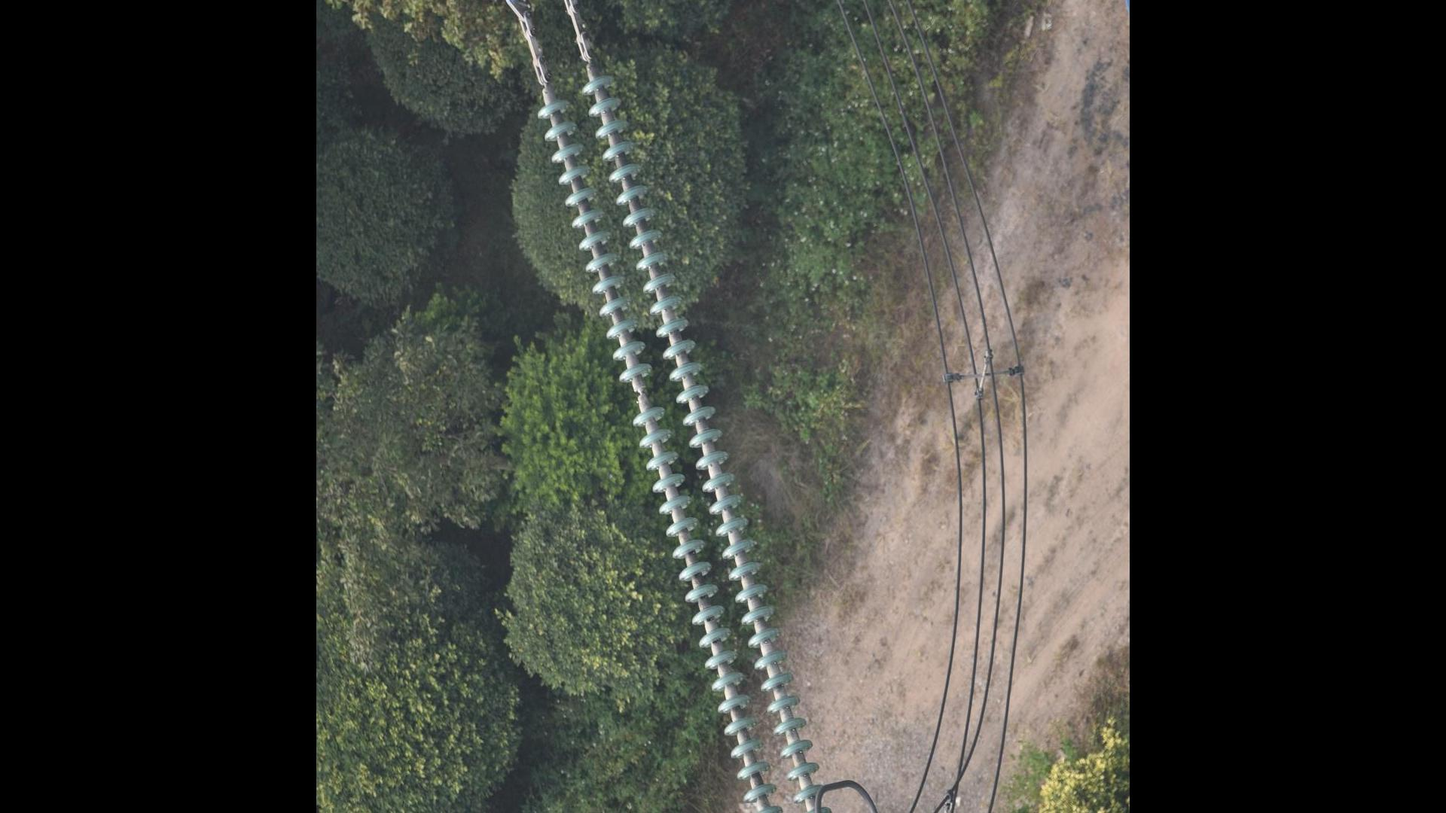insulator: (532, 69, 831, 813)
insulator_stringdrop: (617, 359, 669, 431)
